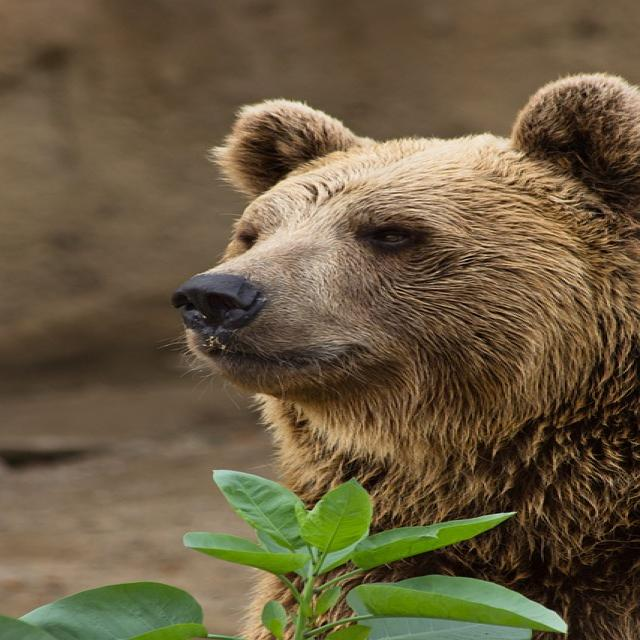Carnivorous: (169, 74, 640, 640)
